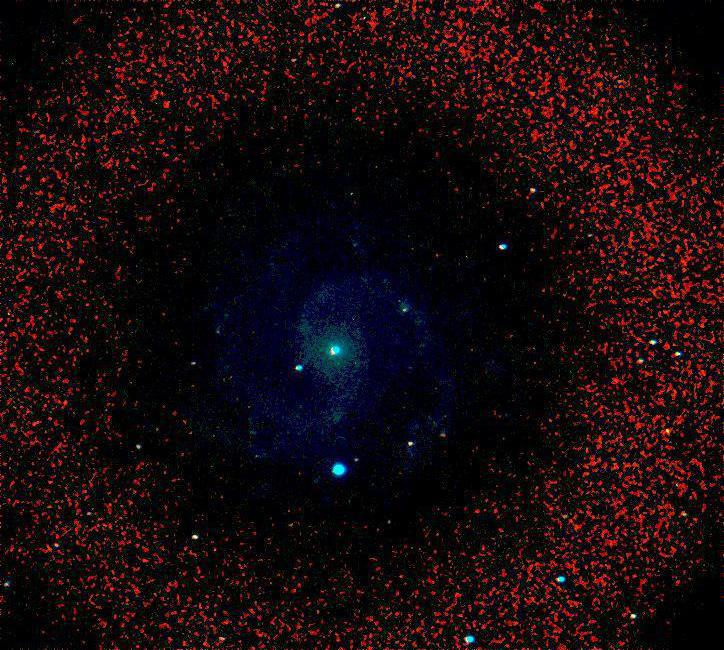star: (326, 350, 356, 380)
